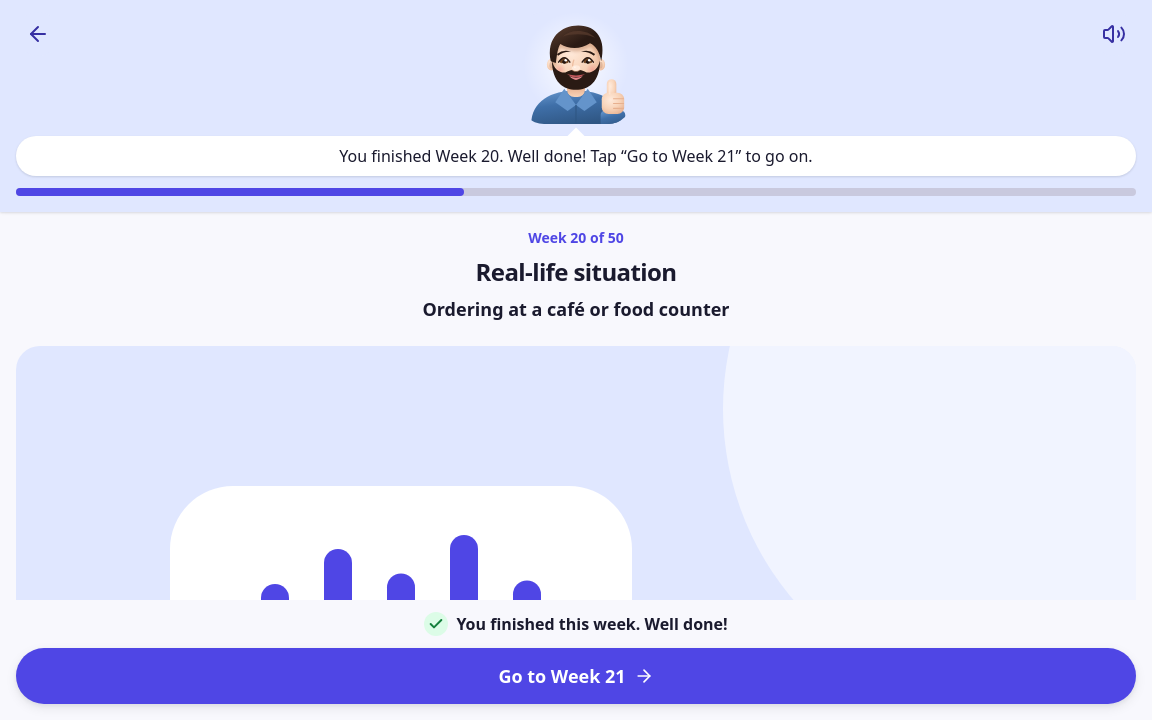
Test: WeekPage › says a week is complete once all seven days are done, and leads on to the next week
Expected: the text "You finished this week. Well done!" is shown, [424,612,728,636]
Expected: the link "Start Day" is not shown
Note: A week with a day left, even an optional one, is not complete.
Click the link "Go to Week 21": [576, 676] box [16,648,1136,704]
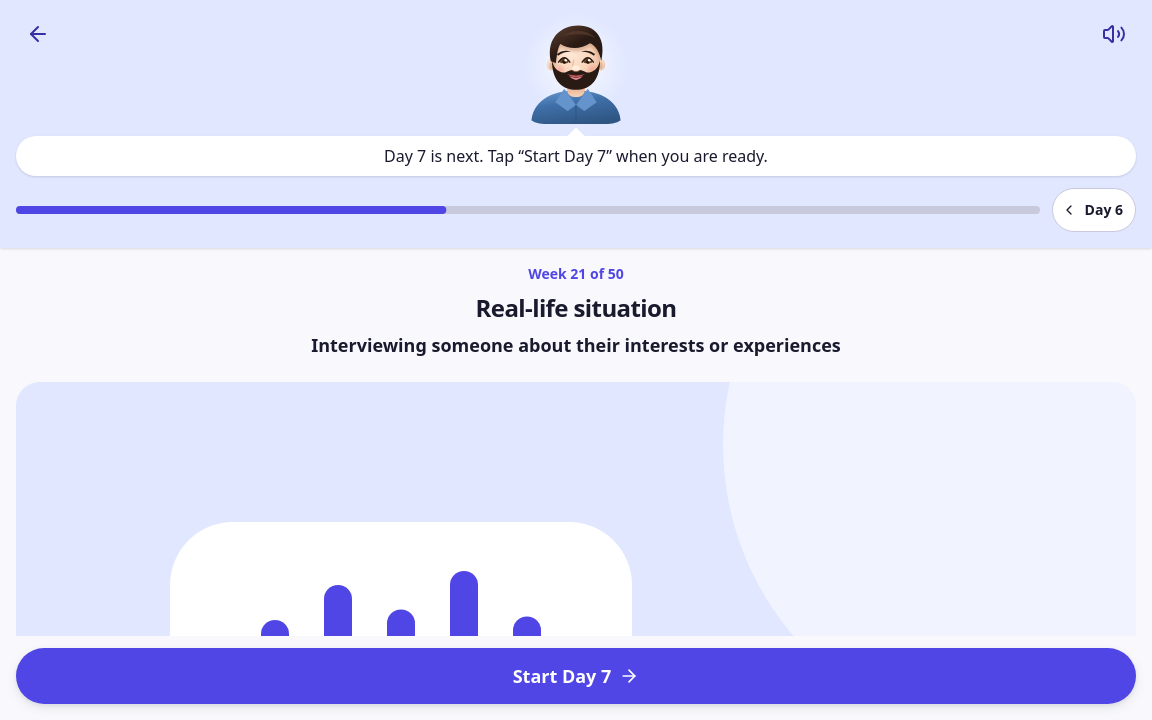
Expected: the link "Start Day 7" is shown, [16,648,1136,704]
Expected: the text "You finished this week. Well done!" is gone
